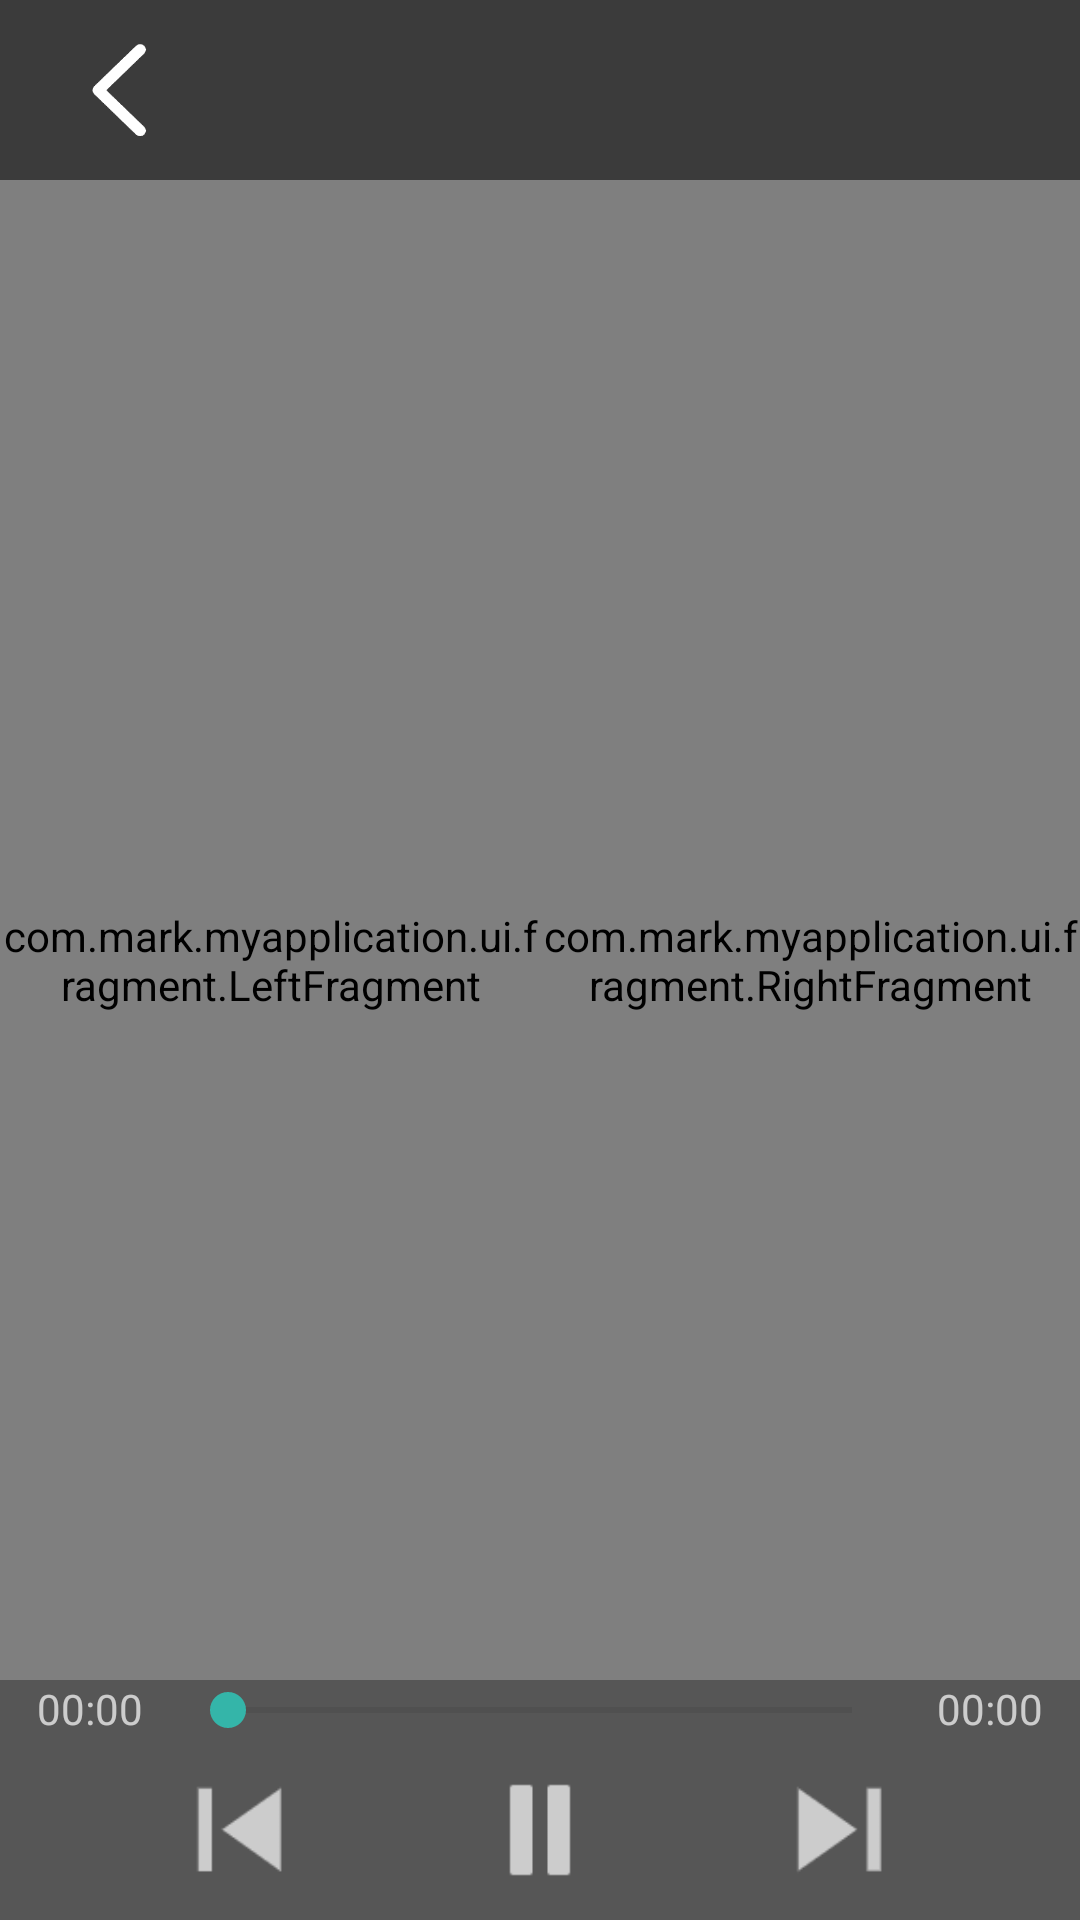

Where to tap for icons on this 1080px×1920px app screen, as point (x, y):
back: point (119, 90)
player last: point (240, 1830)
player next: point (840, 1830)
player pause: point (540, 1830)
